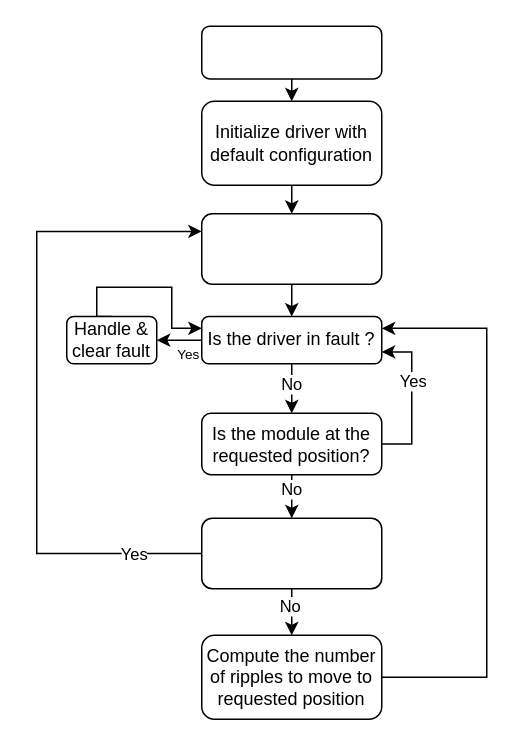
Image size: 525x746. Some labels were removed from this diagram. The centre of each missing label's shape, as x and y in pixels:
Calibration of the module initial position: (291,248)
Does the module needs re-calibration?: (291,553)
Initialize MCU: (291,52)
